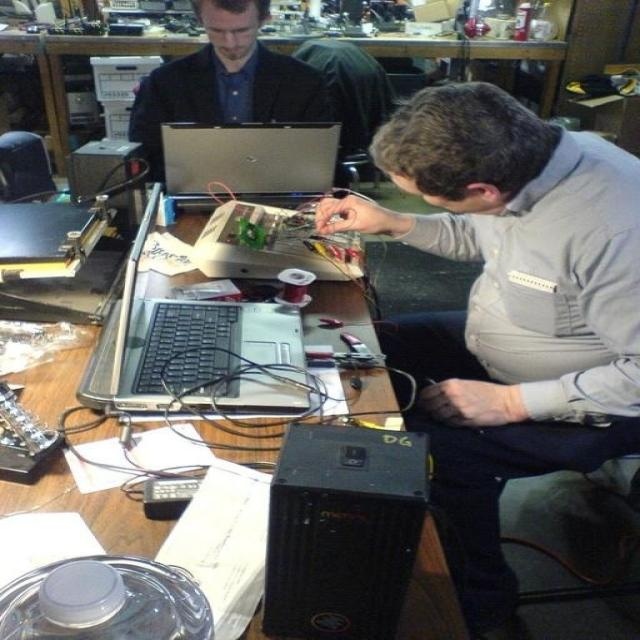Cable: (75, 340, 394, 442)
E-waste: (4, 108, 362, 573)
